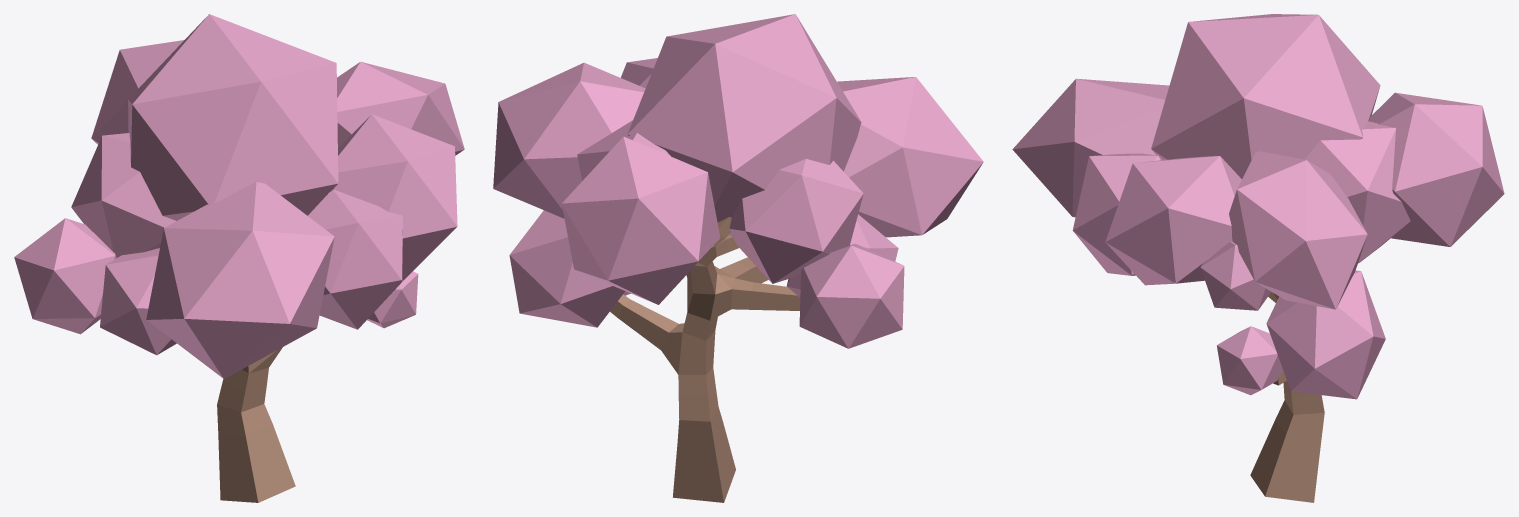
File: tree_cherry.fbx
3 views of the same model, side by side, from view 1: azimuth 30°, elevation 25°; view 2: azimuth 150°, elevation 25°; view 3: azimuth 270°, elevation 25° (orthographic). The views are drawn at different scales.
Visible parts, largest first — view 1: Icosphere.004, Icosphere.011, Icosphere.010, Icosphere.012, Cube, Icosphere.005, Icosphere.008, Icosphere.013, Icosphere.006, Icosphere.009, Icosphere.001; view 2: Icosphere.004, Icosphere.009, Cube, Icosphere.011, Icosphere.013, Icosphere.008, Icosphere.005, Icosphere.002, Icosphere.007, Icosphere.006, Icosphere.010; view 3: Icosphere.004, Icosphere.013, Icosphere.009, Icosphere.010, Icosphere.011, Icosphere.002, Icosphere.007, Cube, Icosphere.012, Icosphere.001, Icosphere.
Part boxes in pixels (left/top/right/bottom): Icosphere.004: left=128, top=14, right=338, bottom=220; Icosphere.011: left=146, top=182, right=334, bottom=378; Icosphere.010: left=333, top=114, right=457, bottom=280; Icosphere.012: left=308, top=189, right=402, bottom=329; Cube: left=217, top=347, right=295, bottom=502; Icosphere.005: left=14, top=218, right=116, bottom=334; Icosphere.008: left=71, top=133, right=175, bottom=257; Icosphere.013: left=337, top=61, right=464, bottom=155; Icosphere.006: left=100, top=248, right=176, bottom=355; Icosphere.009: left=91, top=40, right=183, bottom=144; Icosphere.001: left=367, top=271, right=418, bottom=328; Icosphere.004: left=627, top=14, right=861, bottom=222; Icosphere.009: left=561, top=136, right=720, bottom=304; Cube: left=610, top=217, right=800, bottom=502; Icosphere.011: left=837, top=77, right=983, bottom=237; Icosphere.013: left=493, top=62, right=645, bottom=218; Icosphere.008: left=729, top=159, right=863, bottom=283; Icosphere.005: left=799, top=243, right=904, bottom=348; Icosphere.002: left=509, top=210, right=625, bottom=327; Icosphere.007: left=577, top=120, right=670, bottom=180; Icosphere.006: left=786, top=214, right=898, bottom=297; Icosphere.010: left=621, top=58, right=657, bottom=88; Icosphere.004: left=1151, top=14, right=1380, bottom=178; Icosphere.013: left=1229, top=151, right=1367, bottom=309; Icosphere.009: left=1369, top=92, right=1504, bottom=246; Icosphere.010: left=1105, top=156, right=1241, bottom=285; Icosphere.011: left=1012, top=78, right=1169, bottom=217; Icosphere.002: left=1266, top=270, right=1385, bottom=399; Icosphere.007: left=1305, top=121, right=1410, bottom=263; Cube: left=1250, top=292, right=1324, bottom=502; Icosphere.012: left=1072, top=153, right=1161, bottom=275; Icosphere.001: left=1217, top=326, right=1283, bottom=395; Icosphere: left=1200, top=241, right=1270, bottom=310.
Bounding box in the file's own units: 413 × 457 × 437.
